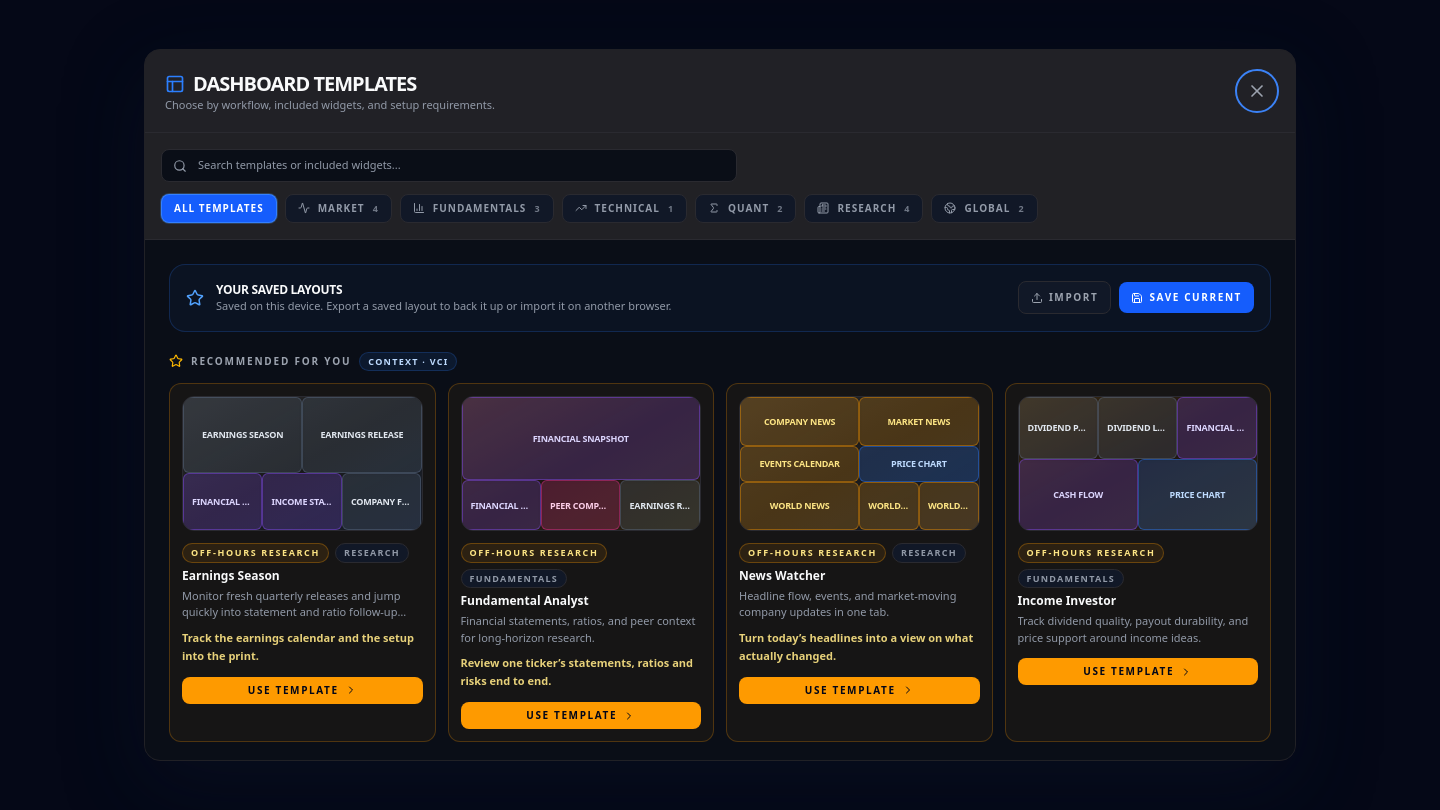
Scenario: TemplateSelector › saves the current dashboard with visible feedback
Click the button "Save current" at (1187, 298), box [1119,282,1254,313]
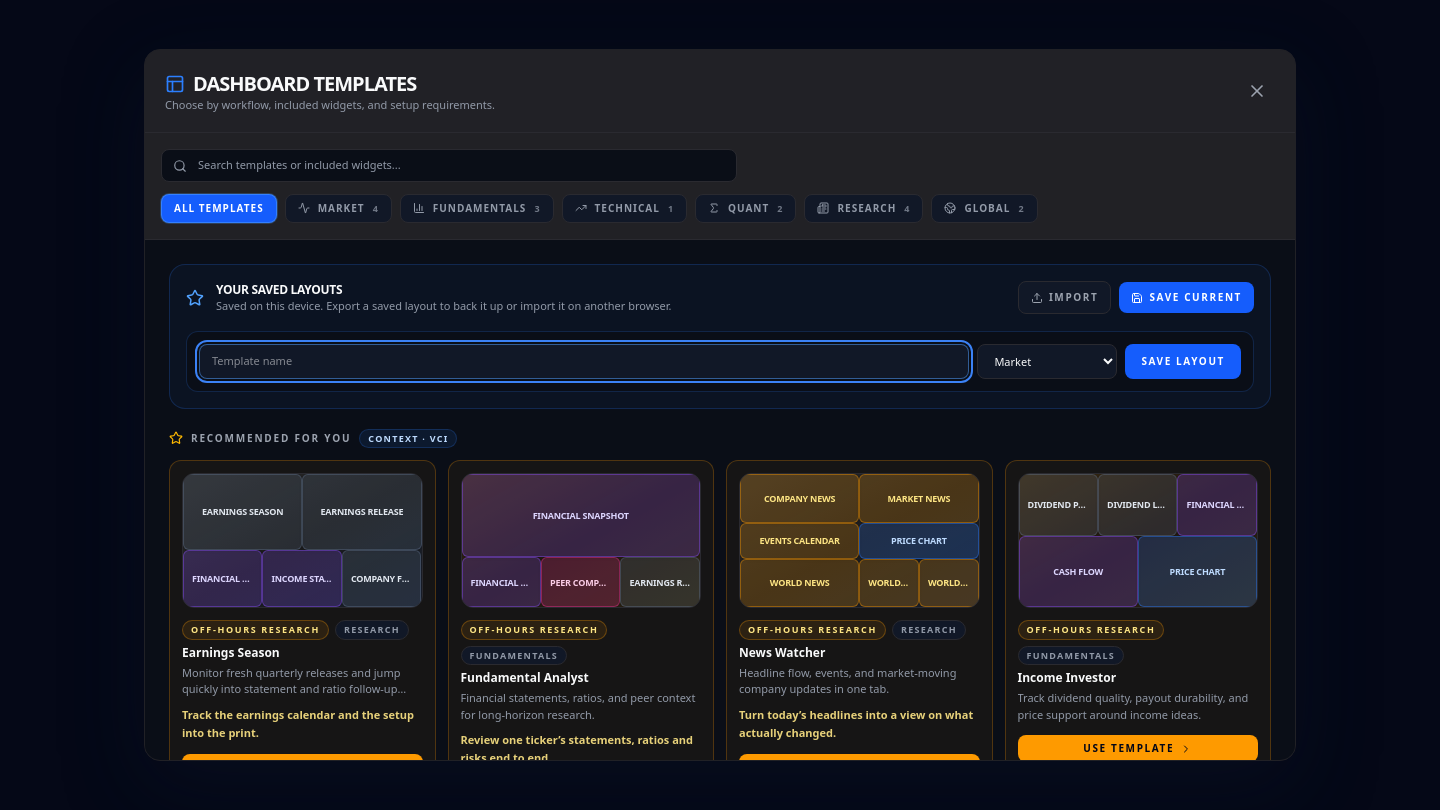
Type "QA Saved Layout" into the field with placeholder "Template name" at (584, 361), box [199,344,969,378]
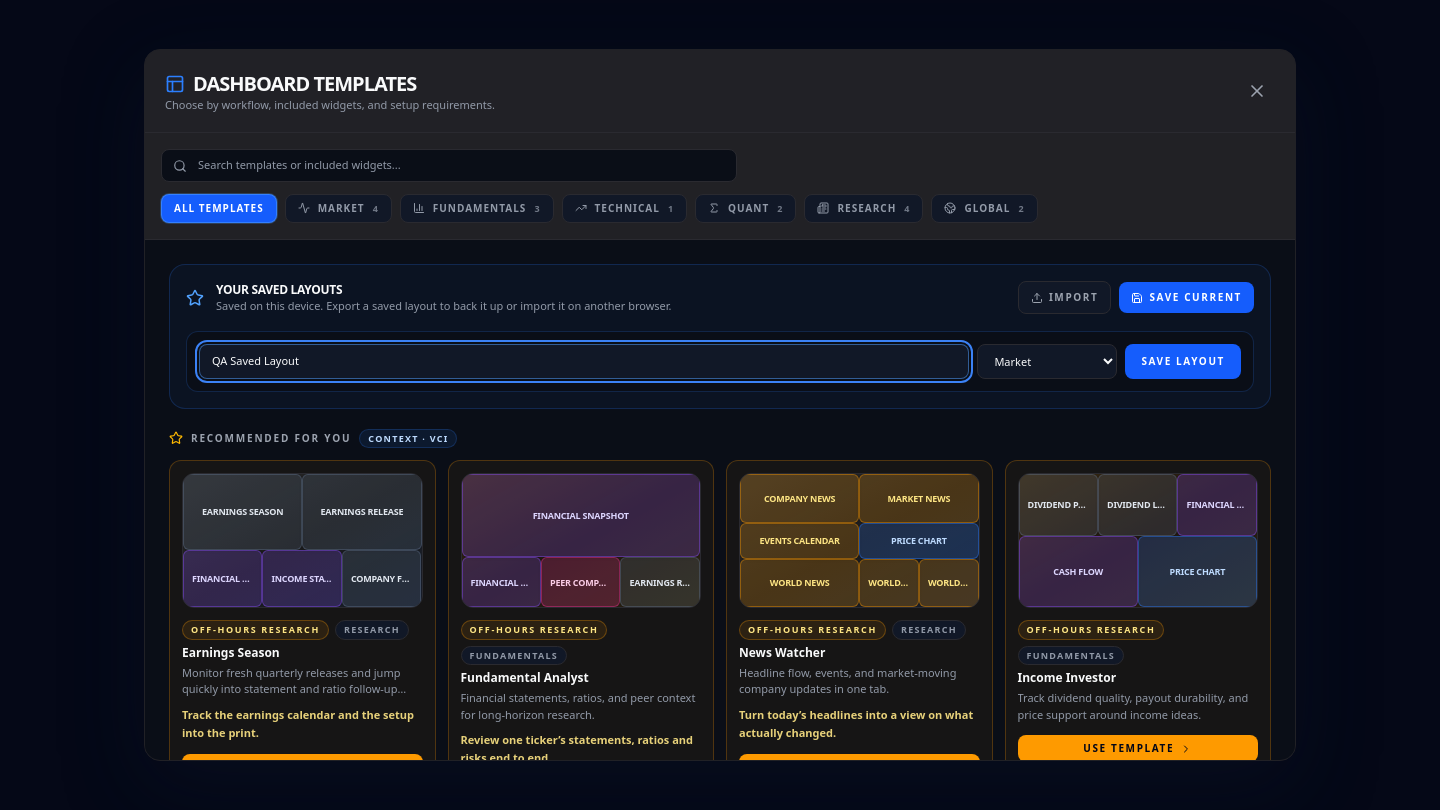
Click the button "Save layout" at (1183, 361), box [1125,344,1241,378]
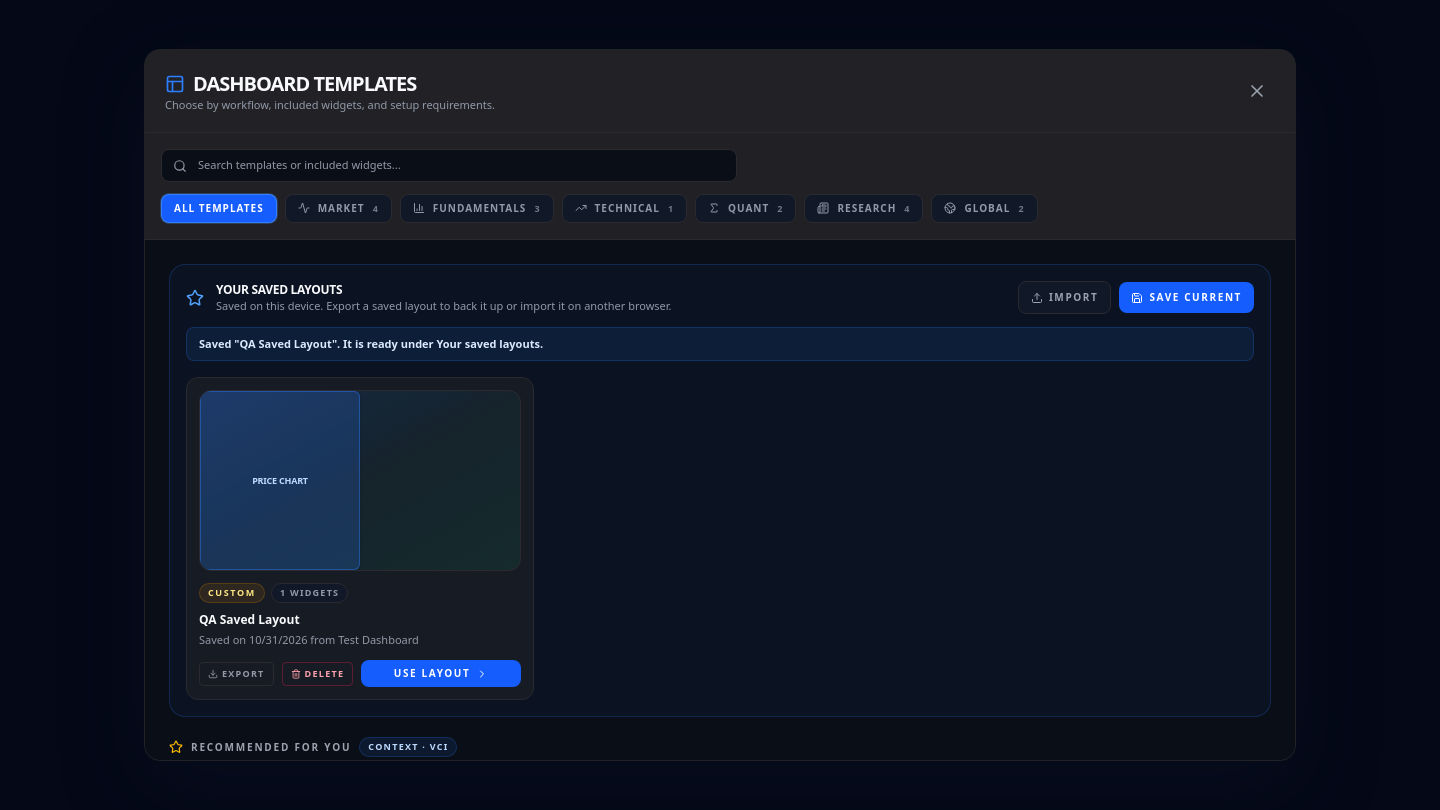
Expected: the text "Saved \"QA Saved Layout\". It is ready under Your saved layouts." is shown, [186,326,1254,361]
Expected: the heading "QA Saved Layout" is shown, [199,611,300,628]
